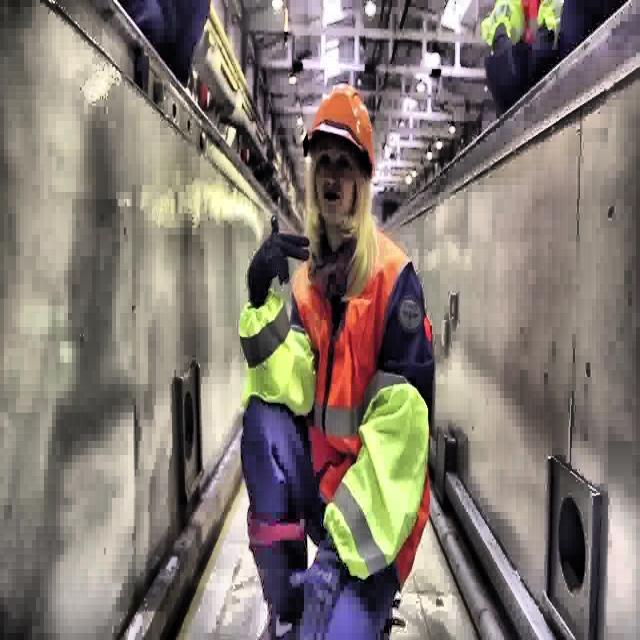safety_helmet: (310, 88, 374, 176)
safety_jacket: (239, 227, 433, 588), (481, 0, 568, 53)
